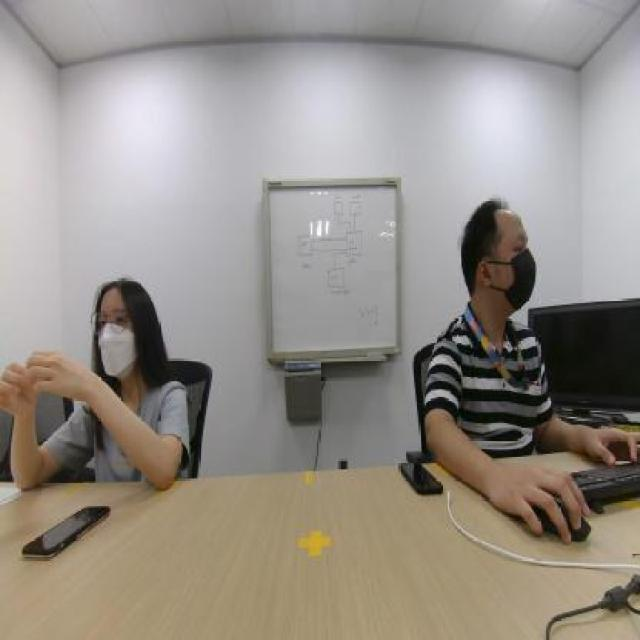Person: (8, 208, 188, 486), (406, 156, 566, 462)
